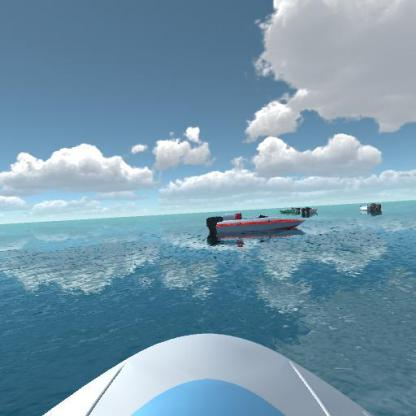usv0: (278, 201, 304, 218), (359, 199, 385, 214)
usv3: (204, 209, 309, 240), (300, 203, 320, 217)
